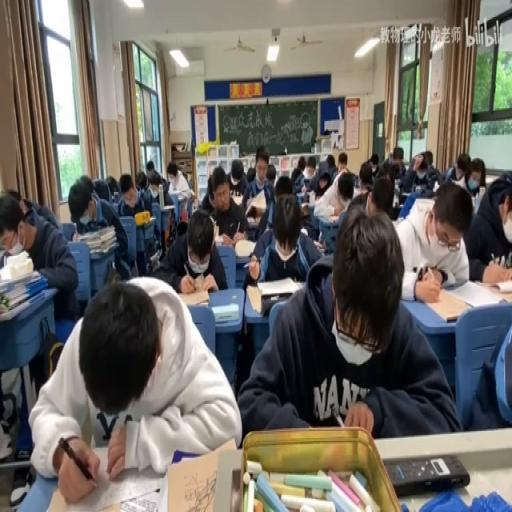calculator: (165, 439, 238, 512), (448, 279, 503, 307), (258, 274, 299, 294), (210, 300, 238, 322), (180, 287, 210, 306), (244, 283, 262, 313), (405, 194, 428, 216), (234, 238, 256, 256), (170, 188, 188, 200), (148, 249, 160, 267), (312, 239, 326, 252), (245, 215, 260, 226), (214, 233, 227, 245), (477, 186, 484, 208), (326, 212, 340, 222), (243, 258, 255, 268), (160, 204, 174, 210), (401, 190, 411, 198), (146, 216, 155, 223)
paper: (238, 206, 455, 440), (30, 276, 238, 502), (2, 189, 80, 327), (71, 174, 131, 280), (152, 209, 226, 294), (461, 312, 512, 430), (461, 172, 512, 278), (243, 148, 276, 230), (145, 165, 176, 230), (293, 175, 322, 240), (362, 168, 398, 220), (400, 146, 438, 194), (118, 171, 150, 222), (226, 158, 248, 203), (446, 151, 472, 186), (381, 145, 404, 182), (199, 175, 215, 215), (467, 159, 486, 192), (290, 155, 306, 192), (336, 174, 354, 204), (357, 162, 373, 188), (274, 175, 292, 196), (104, 175, 120, 196), (349, 192, 367, 209), (264, 163, 275, 185), (369, 150, 379, 174), (337, 152, 347, 174), (6, 188, 20, 202), (157, 176, 169, 192), (325, 154, 335, 172), (306, 155, 315, 174), (245, 166, 254, 184), (424, 148, 433, 165), (137, 176, 146, 192), (167, 169, 177, 182), (146, 158, 154, 171), (387, 149, 393, 162)
person: (385, 452, 470, 495), (261, 292, 293, 314), (230, 468, 242, 510), (299, 202, 310, 218), (446, 313, 458, 321)
